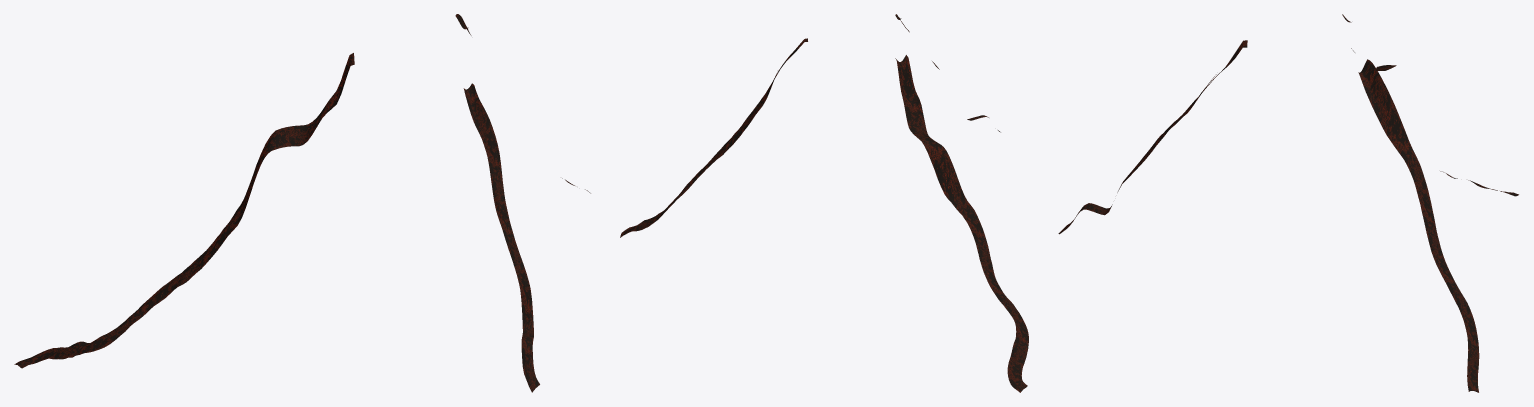
File: flow_crust.glb
The picture shows the model from 3 angles, left to right: view 1: azimuth 30°, elevation 25°; view 2: azimuth 150°, elevation 25°; view 3: azimuth 270°, elevation 25°; orthographic projection. The views are drawn at different scales.
Parts seen in each view (by area): view 1: crust; view 2: crust; view 3: crust.
Part boxes in pixels (left/top/right/bottom): crust: left=14, top=14, right=590, bottom=392; crust: left=620, top=14, right=1028, bottom=392; crust: left=1058, top=14, right=1518, bottom=392.
Size of the model in its own units: 157 by 87.26 by 123.
